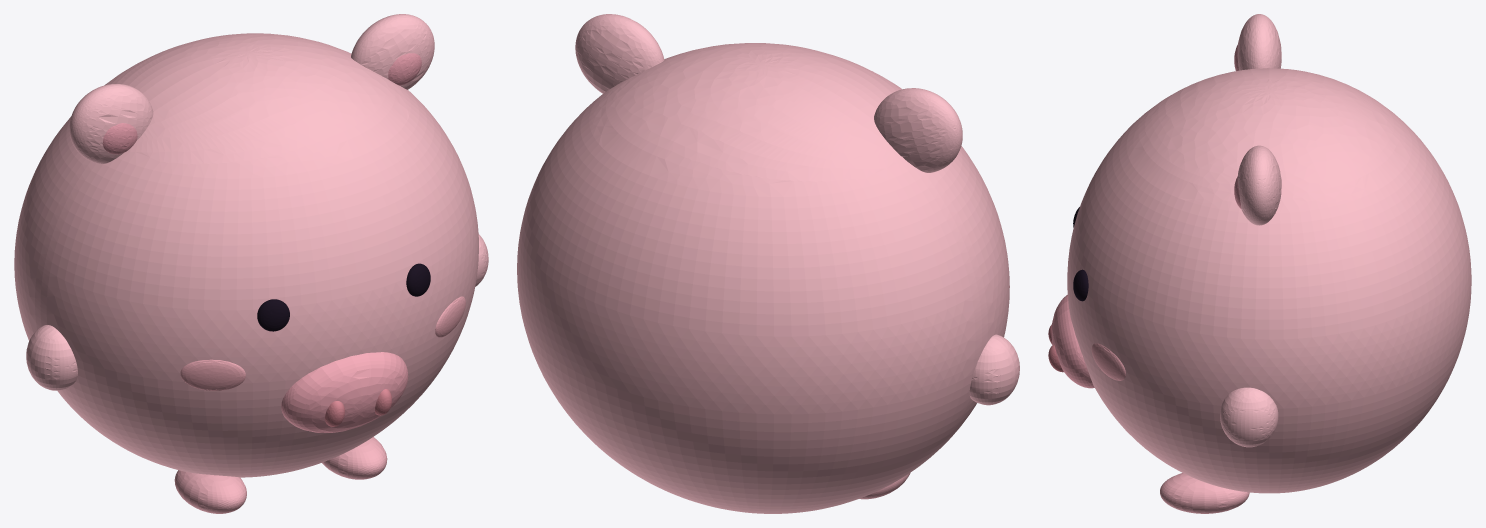
File: yhon.glb
3 renders of one model, left to right at view 1: azimuth 30°, elevation 25°; view 2: azimuth 150°, elevation 25°; view 3: azimuth 270°, elevation 25°, orthographic. The views are drawn at different scales.
Parts seen in each view (by area): view 1: body, snout, earR, earL, armR, footR, footL, blushR, eyeR, innerEarR, innerEarL, blushL (+1 smaller); view 2: body, earR, earL, armR; view 3: body, earL, armL, footL, earR, snout, blushL.
Boxes of the visible parts, bbox=[...] form: body: bbox=[14, 33, 478, 477]; snout: bbox=[281, 352, 408, 432]; earR: bbox=[69, 84, 153, 163]; earL: bbox=[351, 14, 434, 89]; armR: bbox=[26, 325, 77, 390]; footR: bbox=[174, 470, 246, 513]; footL: bbox=[322, 437, 387, 479]; blushR: bbox=[180, 359, 245, 390]; eyeR: bbox=[257, 299, 289, 331]; innerEarR: bbox=[102, 123, 137, 154]; innerEarL: bbox=[388, 53, 421, 85]; blushL: bbox=[435, 296, 465, 337]; body: bbox=[517, 43, 1009, 513]; earR: bbox=[874, 88, 962, 172]; earL: bbox=[575, 14, 664, 93]; armR: bbox=[969, 334, 1019, 405]; body: bbox=[1067, 68, 1471, 493]; earL: bbox=[1237, 145, 1281, 225]; armL: bbox=[1220, 387, 1278, 447]; footL: bbox=[1160, 473, 1249, 513]; earR: bbox=[1237, 14, 1281, 70]; snout: bbox=[1051, 295, 1094, 388]; blushL: bbox=[1091, 343, 1125, 380].
Size of the model in its own units: 65.91 by 57.9 by 56.43.
